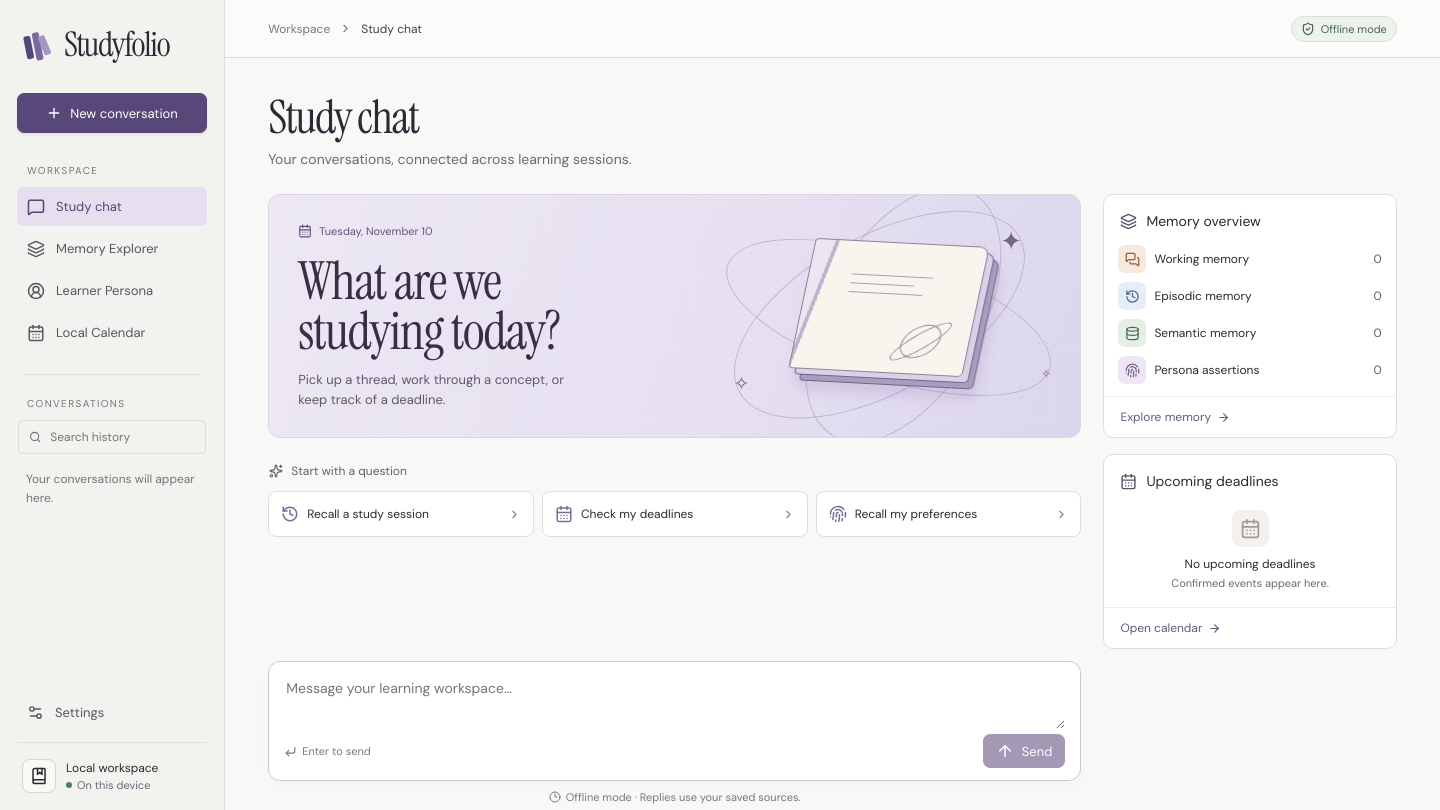
Test: Local workspace › creates a thread and loads its stored conversation
Step 1. Click the button "New conversation" → x=112, y=113, box [17, 93, 207, 133]
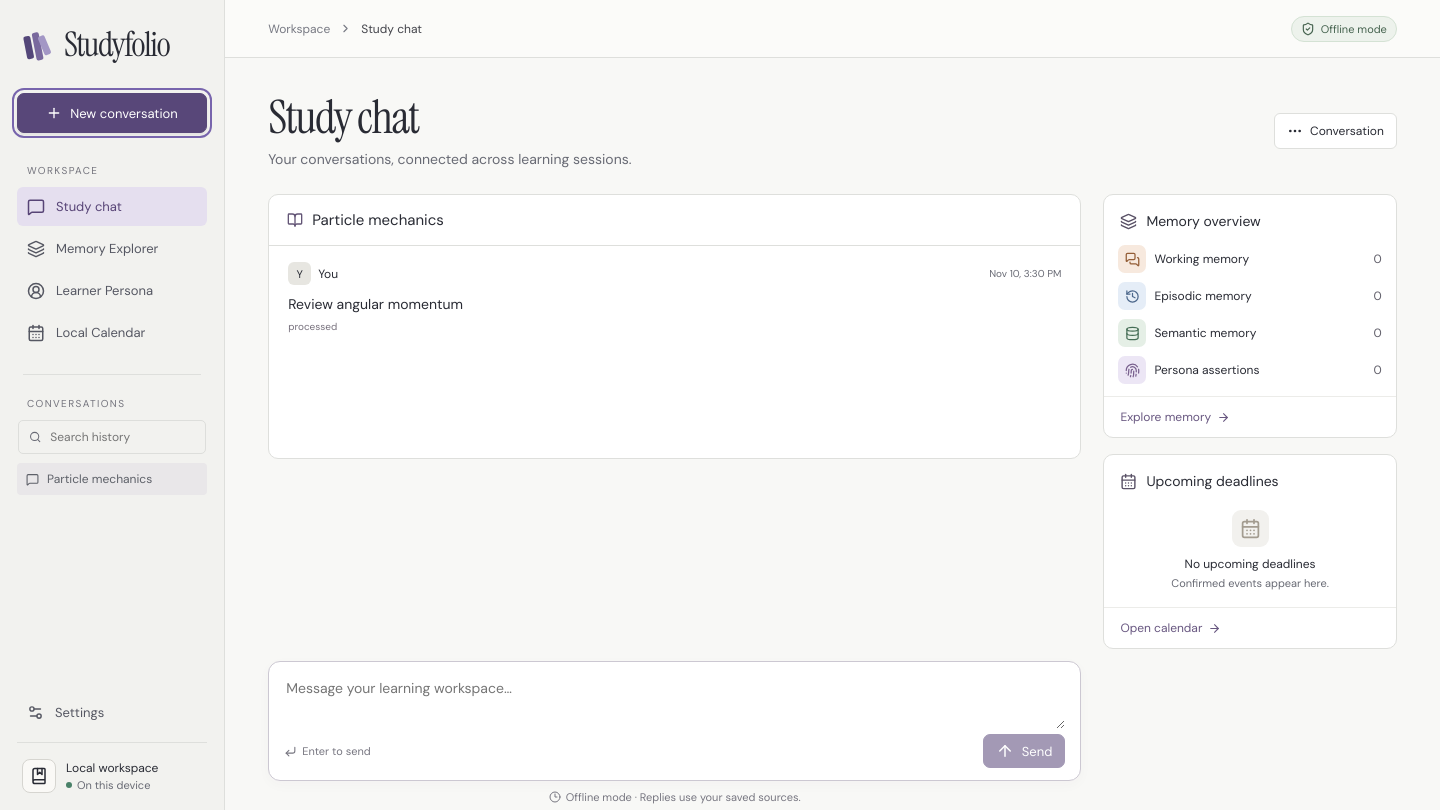
Now the text "Review angular momentum" is shown, box [288, 295, 463, 313]
Now the heading "Particle mechanics" is shown, box [312, 210, 444, 230]
